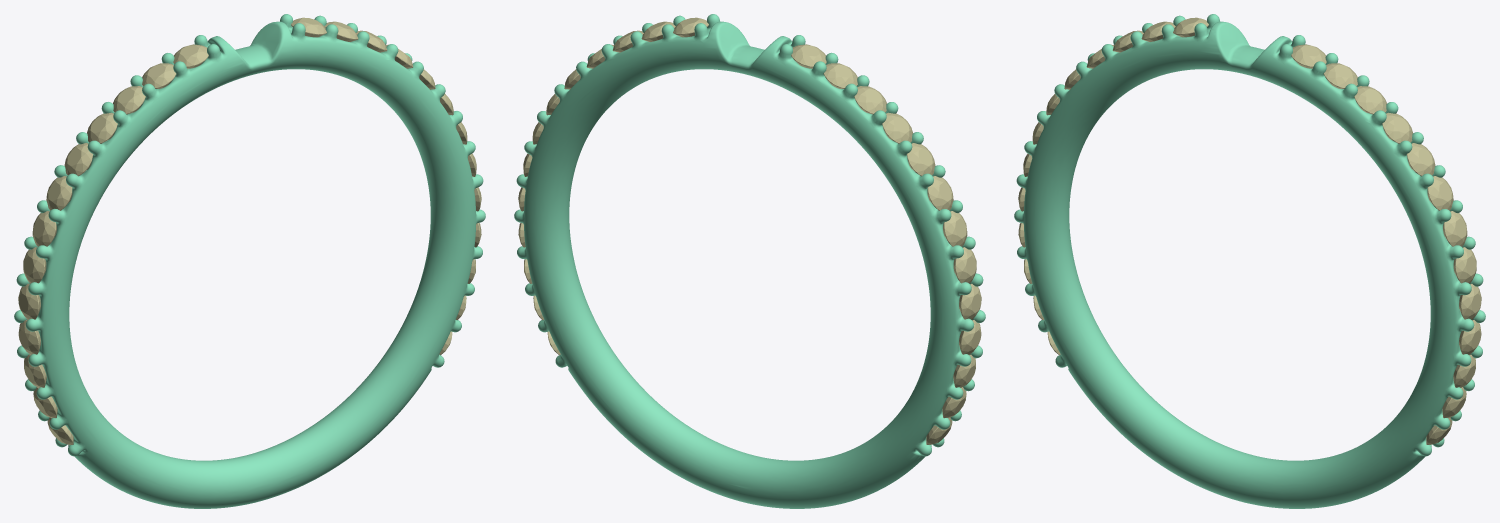
3 views of the same model, side by side, from view 1: azimuth 30°, elevation 25°; view 2: azimuth 150°, elevation 25°; view 3: azimuth 330°, elevation 25° (orthographic).
Visible parts, largest first — view 1: Metal02, Diamond_Gem.017, Diamond_Gem.016, Diamond_Gem.018, Diamond_Gem.015, Diamond_Gem.019, Diamond_Gem.014, Diamond_Gem.020, Diamond_Gem.013, Diamond_Gem.021; view 2: Metal02, Diamond_Gem.017, Diamond_Gem.016, Diamond_Gem.018, Diamond_Gem.015, Diamond_Gem.019, Diamond_Gem.014, Diamond_Gem.020, Diamond_Gem.013, Diamond_Gem.021; view 3: Metal02, Diamond_Gem.009, Diamond_Gem.008, Diamond_Gem.007, Diamond_Gem.010, Diamond_Gem.006, Diamond_Gem.011, Diamond_Gem.005, Diamond_Gem.012, Diamond_Gem.004.
Part boxes in pixels (x1=…): Metal02: x1=14, y1=14, x2=485, y2=508; Diamond_Gem.017: x1=64, y1=143, x2=93, y2=176; Diamond_Gem.016: x1=87, y1=112, x2=117, y2=143; Diamond_Gem.018: x1=46, y1=176, x2=72, y2=210; Diamond_Gem.015: x1=113, y1=86, x2=145, y2=114; Diamond_Gem.019: x1=32, y1=211, x2=56, y2=246; Diamond_Gem.014: x1=142, y1=63, x2=176, y2=88; Diamond_Gem.020: x1=23, y1=247, x2=46, y2=283; Diamond_Gem.013: x1=173, y1=44, x2=208, y2=68; Diamond_Gem.021: x1=18, y1=283, x2=40, y2=319; Metal02: x1=514, y1=14, x2=985, y2=508; Diamond_Gem.017: x1=906, y1=143, x2=935, y2=176; Diamond_Gem.016: x1=882, y1=112, x2=912, y2=143; Diamond_Gem.018: x1=927, y1=176, x2=953, y2=210; Diamond_Gem.015: x1=854, y1=86, x2=886, y2=114; Diamond_Gem.019: x1=943, y1=211, x2=967, y2=246; Diamond_Gem.014: x1=823, y1=63, x2=857, y2=88; Diamond_Gem.020: x1=953, y1=247, x2=976, y2=283; Diamond_Gem.013: x1=791, y1=44, x2=826, y2=68; Diamond_Gem.021: x1=959, y1=283, x2=981, y2=319; Metal02: x1=1014, y1=14, x2=1485, y2=508; Diamond_Gem.009: x1=1382, y1=112, x2=1412, y2=143; Diamond_Gem.008: x1=1406, y1=143, x2=1435, y2=176; Diamond_Gem.007: x1=1427, y1=176, x2=1453, y2=210; Diamond_Gem.010: x1=1354, y1=86, x2=1386, y2=114; Diamond_Gem.006: x1=1443, y1=211, x2=1467, y2=246; Diamond_Gem.011: x1=1323, y1=63, x2=1357, y2=88; Diamond_Gem.005: x1=1453, y1=247, x2=1476, y2=283; Diamond_Gem.012: x1=1291, y1=44, x2=1326, y2=68; Diamond_Gem.004: x1=1459, y1=283, x2=1481, y2=319.
Size of the model in its own units: 21.65 by 21.3 by 1.9.
